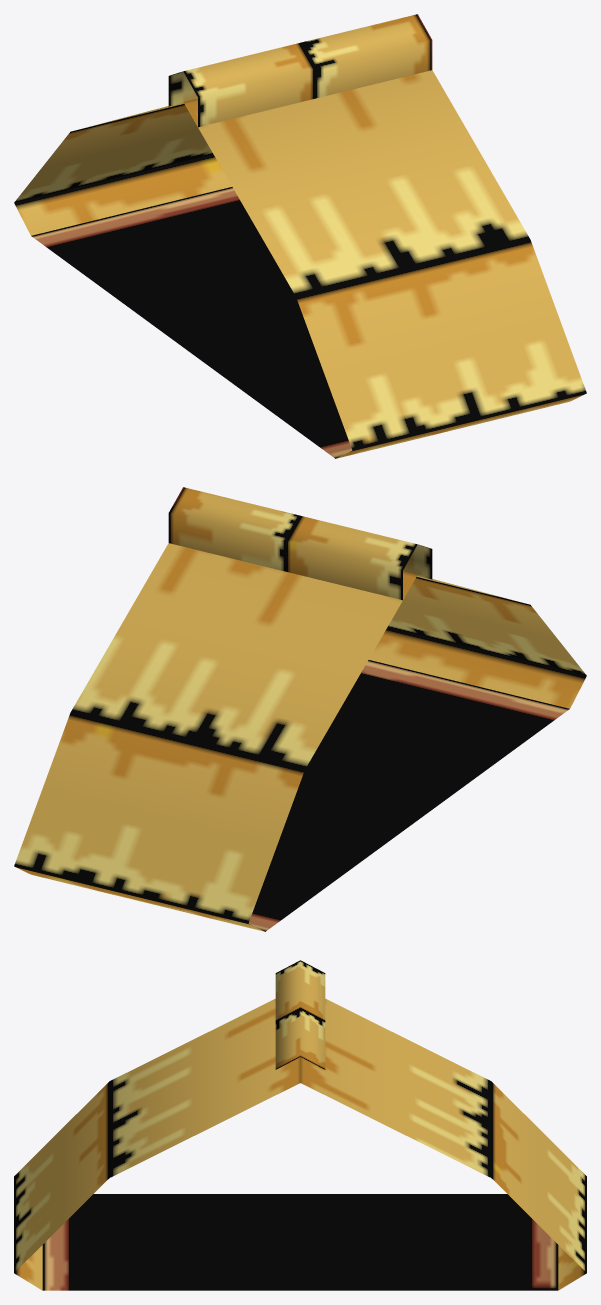
The model's file is arch_roof_straight_straw.FBX.
The picture shows the model from 3 angles, top to bottom: view 1: azimuth 30°, elevation 25°; view 2: azimuth 150°, elevation 25°; view 3: azimuth 270°, elevation 25°; orthographic projection. The views are drawn at different scales.
Parts seen in each view (by area): view 1: arch_roof_straight_straw; view 2: arch_roof_straight_straw; view 3: arch_roof_straight_straw.
Part boxes in pixels (box(x1,y1,x2,y2)): arch_roof_straight_straw: box(14, 14, 586, 458); arch_roof_straight_straw: box(14, 487, 586, 931); arch_roof_straight_straw: box(14, 960, 586, 1290).
Bounding box in the file's own units: 2 × 2.25 × 5.
Materials: 1 (1 with a texture image).
